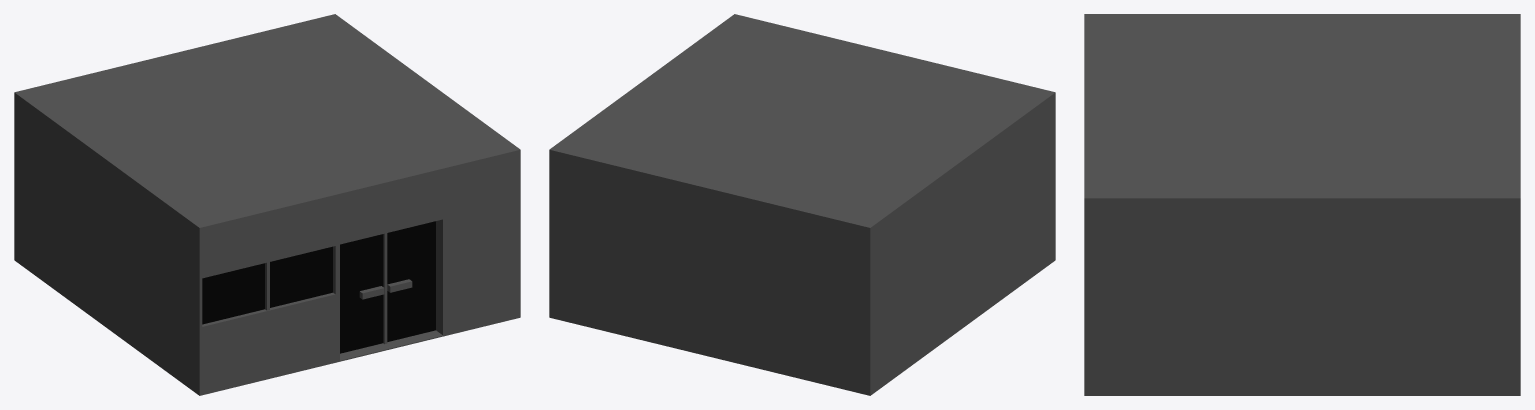
The model's file is Immeuble1bas2.fbx.
3 views of the same model, side by side, from view 1: azimuth 30°, elevation 25°; view 2: azimuth 150°, elevation 25°; view 3: azimuth 270°, elevation 25° (orthographic). The views are drawn at different scales.
Visible parts, largest first — view 1: Cube.031; view 2: Cube.031; view 3: Cube.031.
Part boxes in pixels (x1=…): Cube.031: x1=14, y1=14, x2=520, y2=395; Cube.031: x1=549, y1=14, x2=1055, y2=395; Cube.031: x1=1084, y1=14, x2=1520, y2=395.
Bounding box in the file's own units: 2000 × 1000 × 2000.
